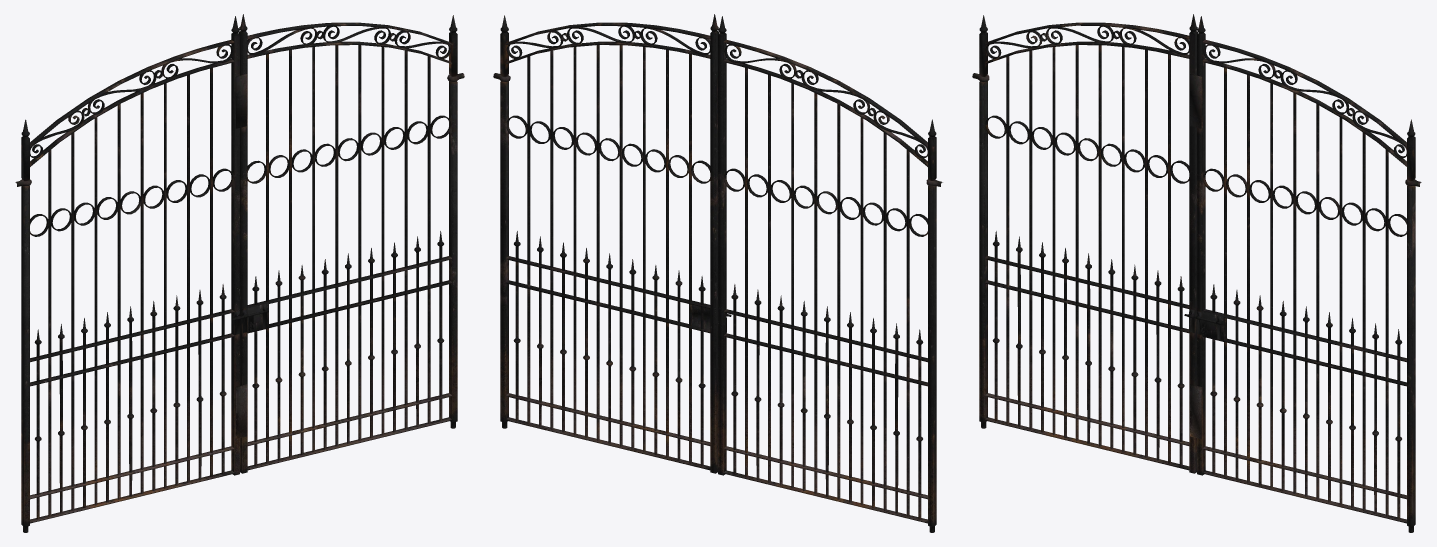
File: large_iron_gate_1k_md.glb
3 renders of one model, left to right at view 1: azimuth 30°, elevation 25°; view 2: azimuth 150°, elevation 25°; view 3: azimuth 330°, elevation 25°, orthographic.
Parts seen in each view (by area): view 1: large_iron_gate_right_door, large_iron_gate_left_door; view 2: large_iron_gate_left_door, large_iron_gate_right_door; view 3: large_iron_gate_right_door, large_iron_gate_left_door.
Part boxes in pixels (x1,y1,x2,y2): large_iron_gate_right_door: [235, 14, 457, 473]; large_iron_gate_left_door: [21, 16, 241, 532]; large_iron_gate_left_door: [718, 16, 936, 532]; large_iron_gate_right_door: [500, 14, 718, 473]; large_iron_gate_right_door: [1190, 16, 1415, 532]; large_iron_gate_left_door: [979, 14, 1197, 473].
Bounding box in the file's own units: 2.95 × 2.93 × 0.0973.
1 material, 1 textured.
